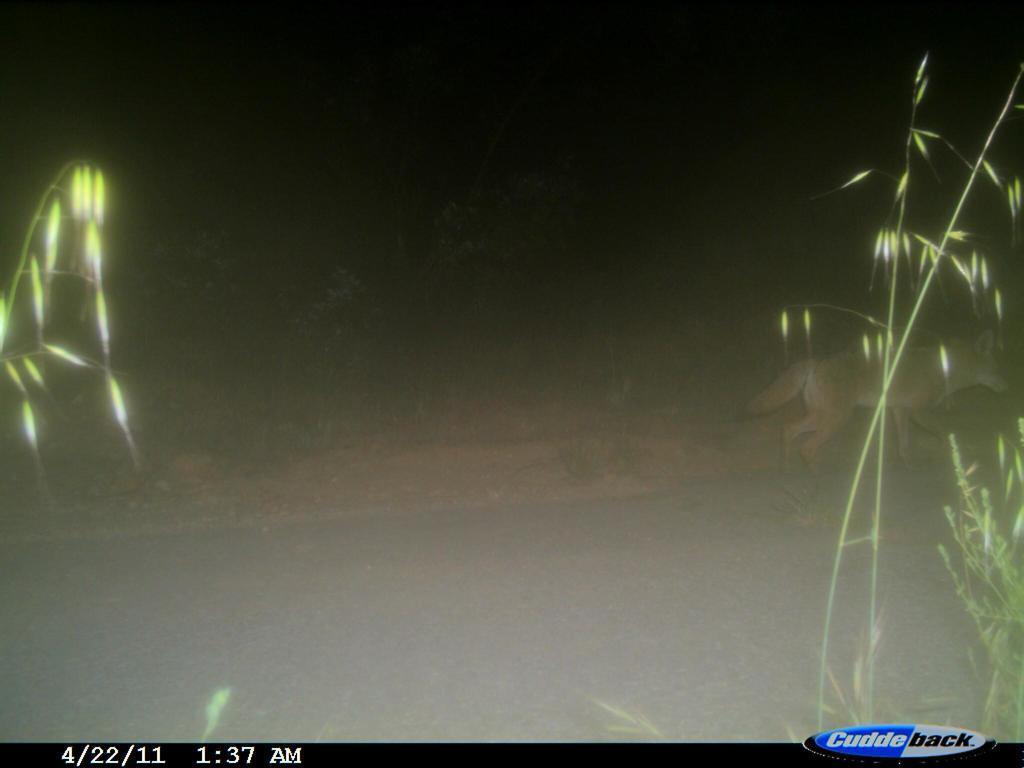coyote: (726, 314, 1016, 489)
